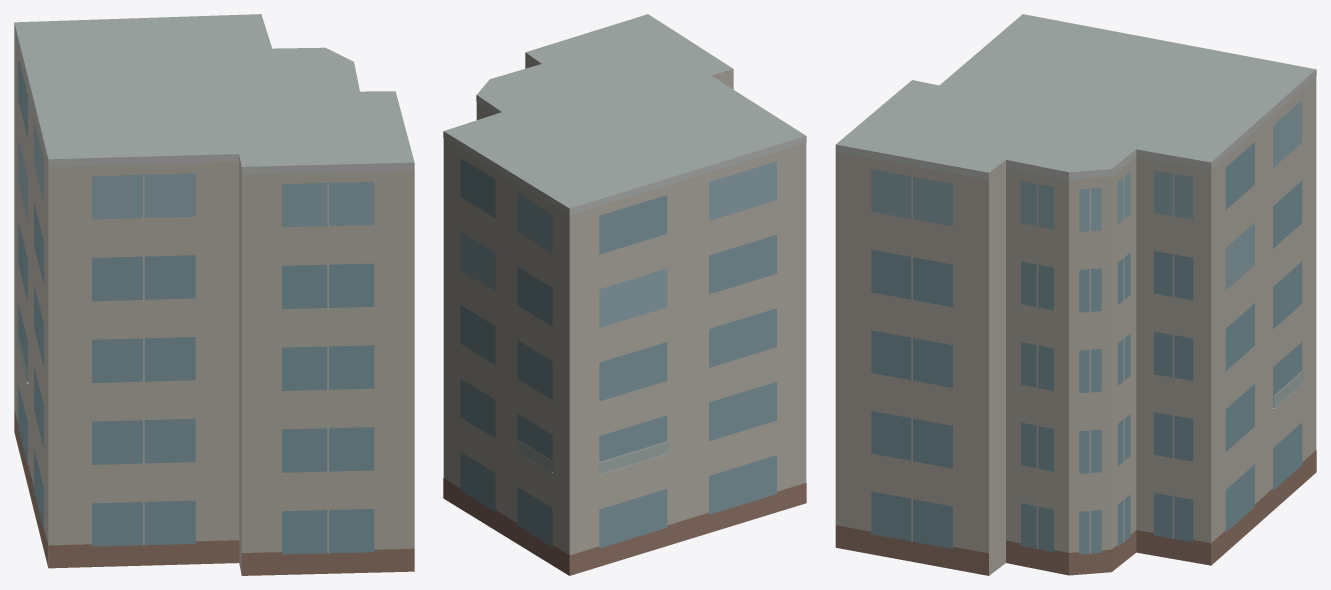
File: survey-upis-32975607.glb
The picture shows the model from 3 angles, left to right: view 1: azimuth 30°, elevation 25°; view 2: azimuth 150°, elevation 25°; view 3: azimuth 270°, elevation 25°; orthographic projection. The views are drawn at different scales.
Parts seen in each view (by area): view 1: survey-upis-32975607.tmp; view 2: survey-upis-32975607.tmp; view 3: survey-upis-32975607.tmp.
Part boxes in pixels (<box>): survey-upis-32975607.tmp: <box>14,14,414,575</box>; survey-upis-32975607.tmp: <box>443,14,806,575</box>; survey-upis-32975607.tmp: <box>835,14,1316,575</box>.
Size of the model in its own units: 11.16 by 13.2 by 14.27.
